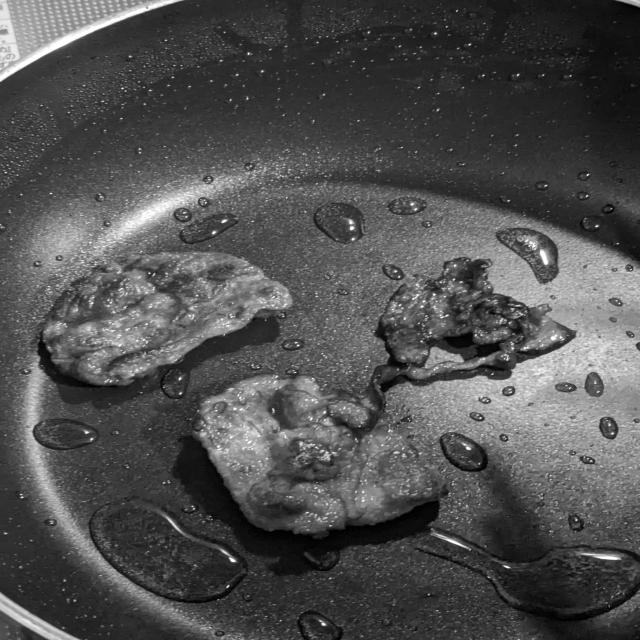overcooked pork: (181, 251, 593, 544), (26, 244, 309, 394)
